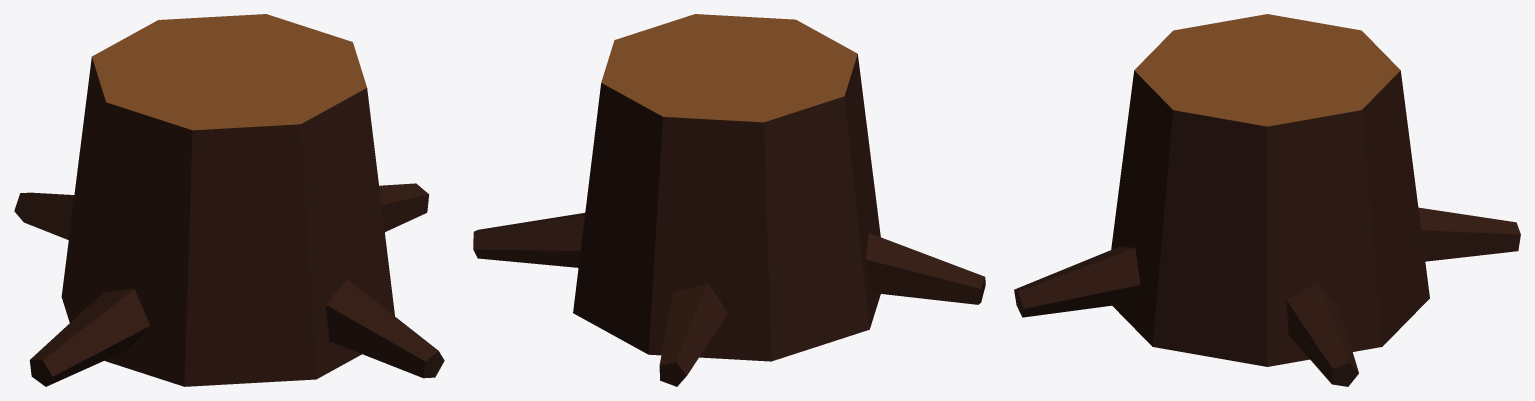
The model's file is Tree_Stump_02.fbx.
3 views of the same model, side by side, from view 1: azimuth 30°, elevation 25°; view 2: azimuth 150°, elevation 25°; view 3: azimuth 270°, elevation 25° (orthographic). The views are drawn at different scales.
Parts seen in each view (by area): view 1: Tree_Stump_02_Mesh; view 2: Tree_Stump_02_Mesh; view 3: Tree_Stump_02_Mesh.
Boxes of the visible parts, left/top/right/bottom form: Tree_Stump_02_Mesh: left=14, top=14, right=444, bottom=386; Tree_Stump_02_Mesh: left=473, top=14, right=985, bottom=386; Tree_Stump_02_Mesh: left=1014, top=14, right=1520, bottom=386.
Bounding box in the file's own units: 1.31 × 0.65 × 1.31.
Materials: 1 (1 with a texture image).
